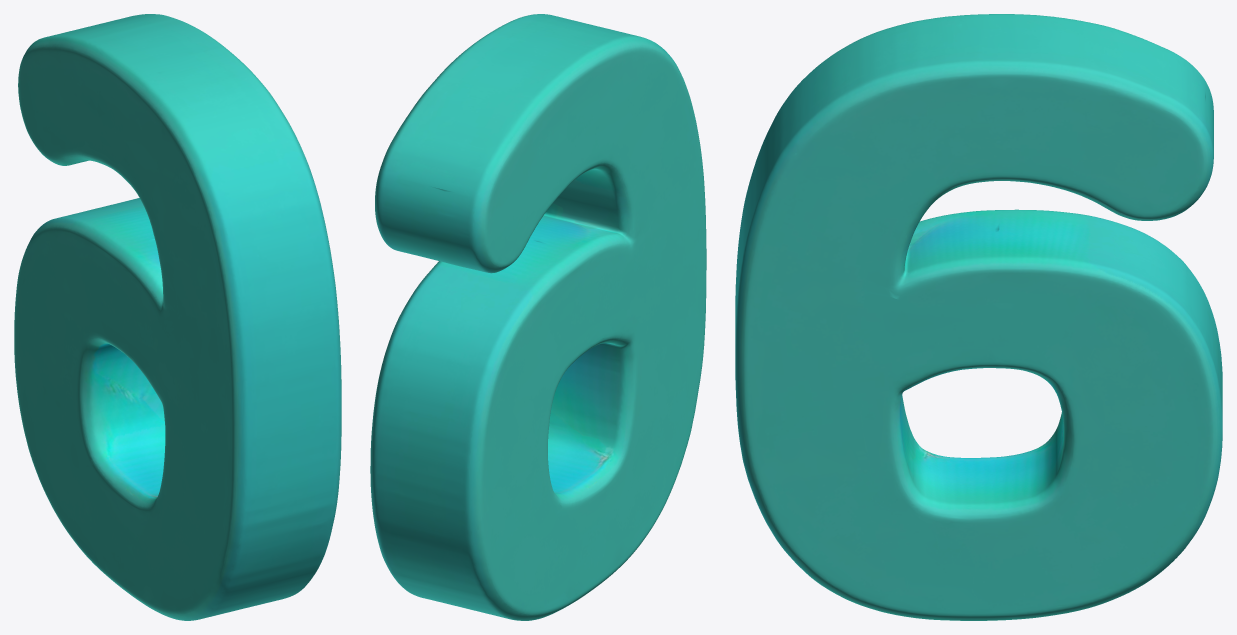
Rendered from Number6.fbx.
The picture shows the model from 3 angles, left to right: view 1: azimuth 30°, elevation 25°; view 2: azimuth 150°, elevation 25°; view 3: azimuth 270°, elevation 25°; orthographic projection. The views are drawn at different scales.
Parts seen in each view (by area): view 1: tripo_node_3ec158e3-97db-44b2-8de9-38bf3e8b7cb3; view 2: tripo_node_3ec158e3-97db-44b2-8de9-38bf3e8b7cb3; view 3: tripo_node_3ec158e3-97db-44b2-8de9-38bf3e8b7cb3.
Boxes of the visible parts, box(x1,y1,x2,y2) form: tripo_node_3ec158e3-97db-44b2-8de9-38bf3e8b7cb3: box(14, 14, 341, 620); tripo_node_3ec158e3-97db-44b2-8de9-38bf3e8b7cb3: box(370, 14, 706, 620); tripo_node_3ec158e3-97db-44b2-8de9-38bf3e8b7cb3: box(735, 14, 1222, 620).
Bounding box in the file's own units: 20.52 × 94.94 × 74.97.
Materials: 1 (1 with a texture image).
